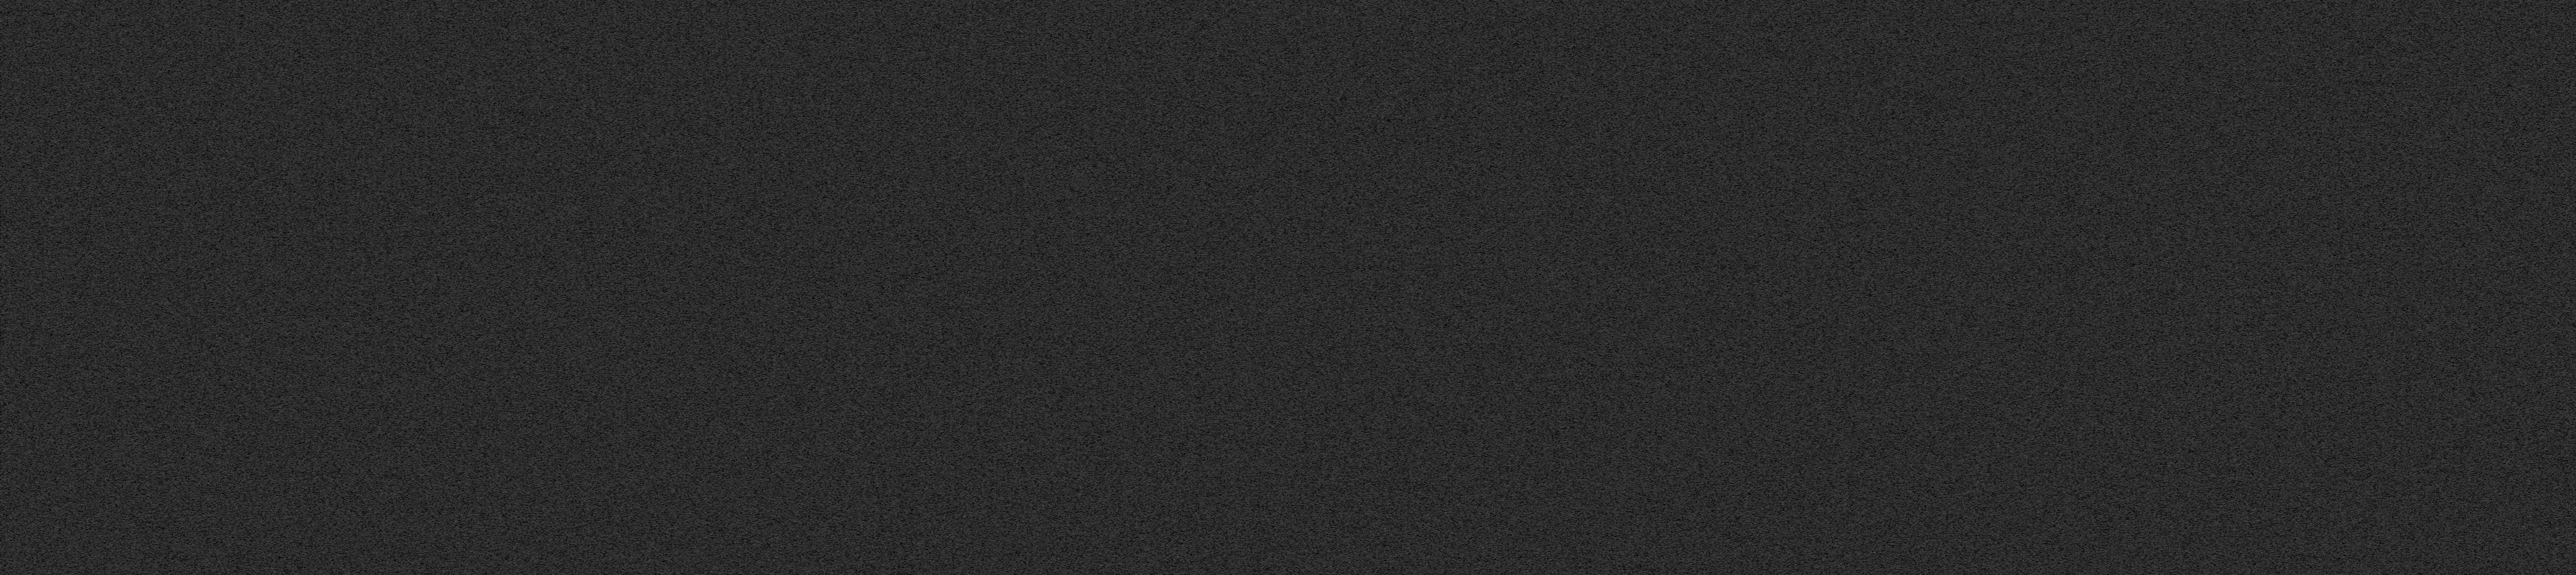wv_am: (1234, 207, 1237, 568), (1232, 0, 1237, 123), (1193, 0, 1196, 125), (1232, 172, 1237, 205), (1232, 123, 1237, 148), (1232, 149, 1237, 171), (1193, 550, 1196, 575), (1193, 427, 1196, 450), (1193, 329, 1196, 350), (1193, 355, 1196, 375), (1193, 304, 1196, 324), (1193, 279, 1196, 299), (1193, 255, 1196, 274), (1193, 230, 1196, 250), (1193, 205, 1196, 225), (1193, 154, 1196, 174), (1193, 130, 1196, 149), (1193, 509, 1196, 529), (1193, 404, 1196, 424), (1193, 379, 1196, 399), (1193, 181, 1196, 199), (1193, 481, 1196, 499), (1193, 453, 1196, 471), (1193, 534, 1196, 545), (1234, 568, 1237, 575), (1193, 503, 1196, 508), (1193, 475, 1196, 478)
wv_cw: (1267, 0, 1272, 559), (1263, 562, 1275, 575)
wv_lsb: (1219, 519, 1222, 555), (1219, 503, 1222, 519), (1219, 123, 1222, 140), (1219, 564, 1222, 575), (1219, 31, 1222, 43), (1221, 89, 1222, 107), (1221, 225, 1222, 235), (1221, 21, 1222, 31), (1221, 61, 1222, 69), (1221, 43, 1222, 51), (1221, 8, 1222, 16), (1219, 499, 1222, 503), (1221, 289, 1222, 296), (1221, 112, 1222, 118), (1221, 72, 1222, 79), (1221, 54, 1222, 61), (1221, 557, 1222, 562), (1221, 214, 1222, 218), (1221, 209, 1222, 214), (1221, 187, 1222, 192), (1221, 154, 1222, 159), (1221, 79, 1222, 84), (1221, 16, 1222, 21), (1221, 283, 1222, 286), (1221, 255, 1222, 258), (1221, 182, 1222, 186), (1221, 166, 1222, 169), (1221, 161, 1222, 164), (1221, 143, 1222, 146), (1221, 118, 1222, 122), (1221, 498, 1222, 499), (1221, 491, 1222, 493), (1221, 478, 1222, 480), (1221, 468, 1222, 470), (1221, 450, 1222, 452), (1221, 266, 1222, 268), (1221, 250, 1222, 251), (1221, 205, 1222, 207), (1221, 172, 1222, 174), (1221, 153, 1222, 154), (1221, 149, 1222, 151), (1221, 108, 1222, 110)
wv_wbfm: (590, 0, 626, 572), (2379, 0, 2407, 555), (2380, 557, 2403, 575), (2403, 562, 2407, 565)
